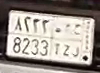2: (22, 15, 33, 55)
3: (40, 18, 51, 58), (31, 17, 42, 56)
8: (12, 16, 23, 54)
J: (72, 23, 83, 58)
T: (52, 22, 62, 56)
Z: (62, 22, 72, 58)
